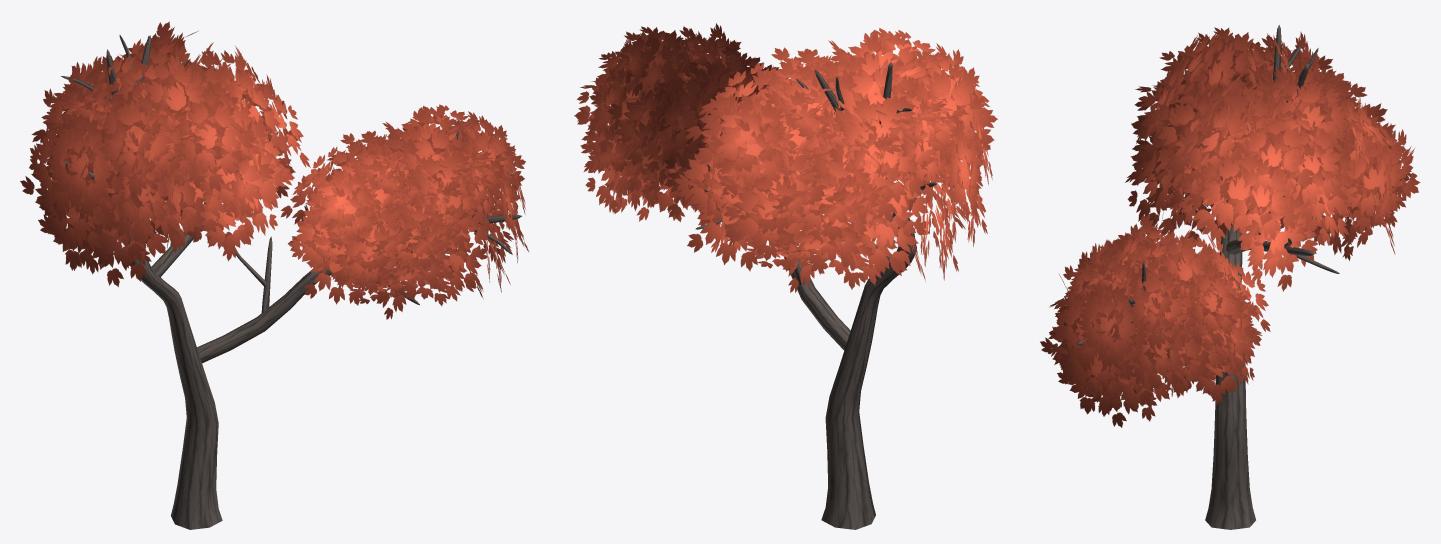
File: tree-maple-1.glb
3 renders of one model, left to right at view 1: azimuth 30°, elevation 25°; view 2: azimuth 150°, elevation 25°; view 3: azimuth 270°, elevation 25°, orthographic. The views are drawn at different scales.
Parts seen in each view (by area): view 1: MapleTree_1; view 2: MapleTree_1; view 3: MapleTree_1.
Part boxes in pixels (x1,y1,x2,y2): MapleTree_1: (20, 21, 528, 529); MapleTree_1: (574, 23, 997, 529); MapleTree_1: (1040, 25, 1420, 529).
Bounding box in the file's own units: 6.23 × 6.64 × 4.9.
2 materials, 2 textured.
